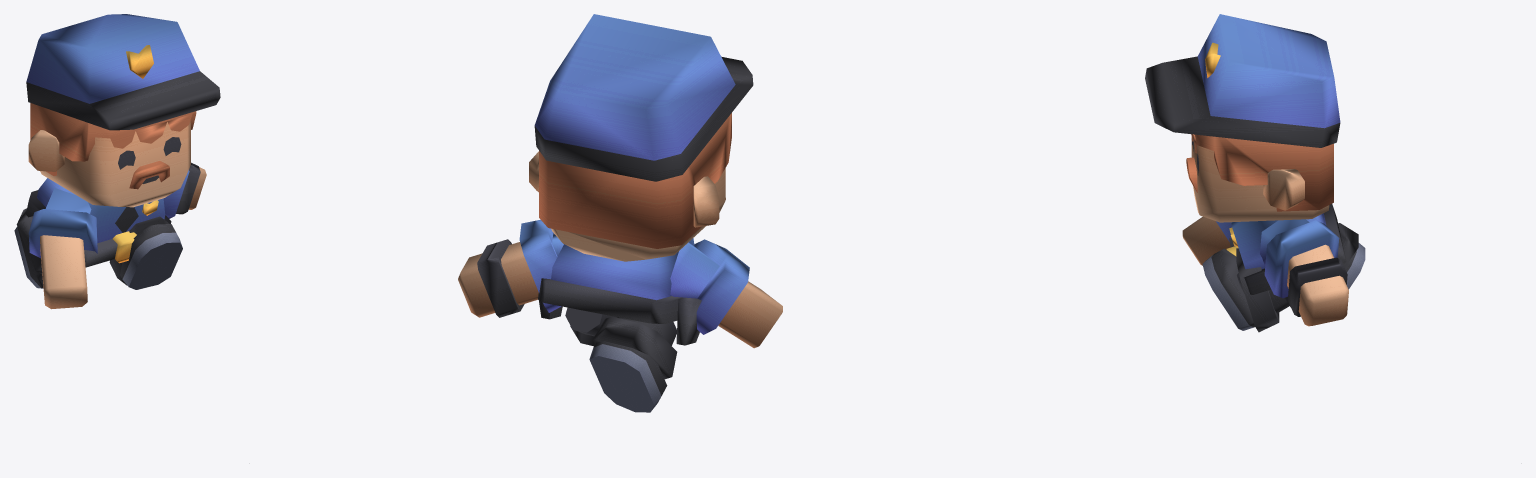
File: leader_sprint_3.glb
The picture shows the model from 3 angles, left to right: view 1: azimuth 30°, elevation 25°; view 2: azimuth 150°, elevation 25°; view 3: azimuth 270°, elevation 25°; orthographic projection. The views are drawn at different scales.
Parts seen in each view (by area): view 1: leader-sprint-3; view 2: leader-sprint-3; view 3: leader-sprint-3.
Part boxes in pixels (x1,y1,x2,y2): leader-sprint-3: (14,14,220,309); leader-sprint-3: (458,14,782,412); leader-sprint-3: (1145,14,1365,332).
Size of the model in its own units: 1.2 by 0.888 by 1.2.
Materials: 1 (1 with a texture image).
